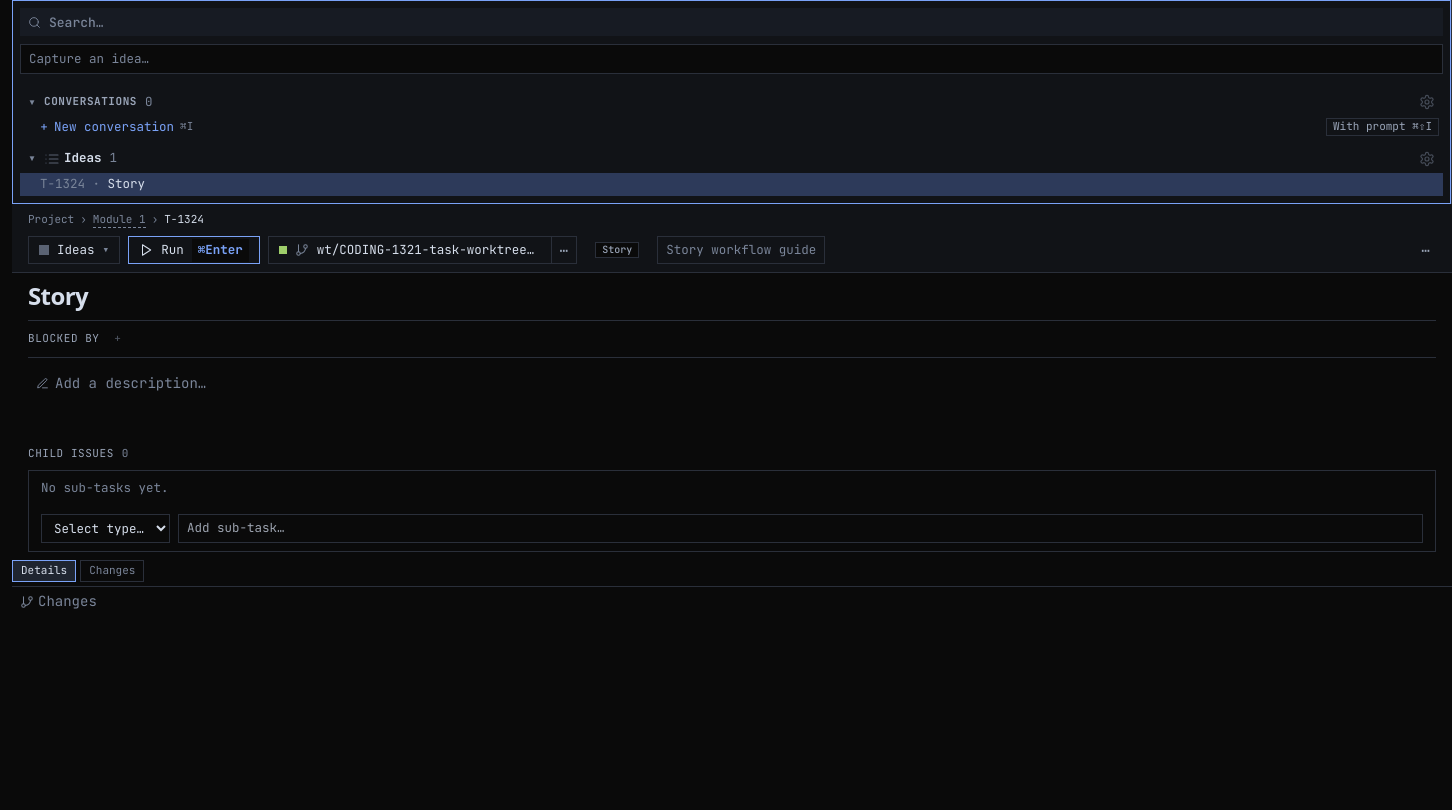
Test: overhaul acceptance - task worktree Changes › [overhaul-194] requires committed task work before offering Create PR
Click the tab "Changes".
click(112, 571)  # box [80,560,144,582]
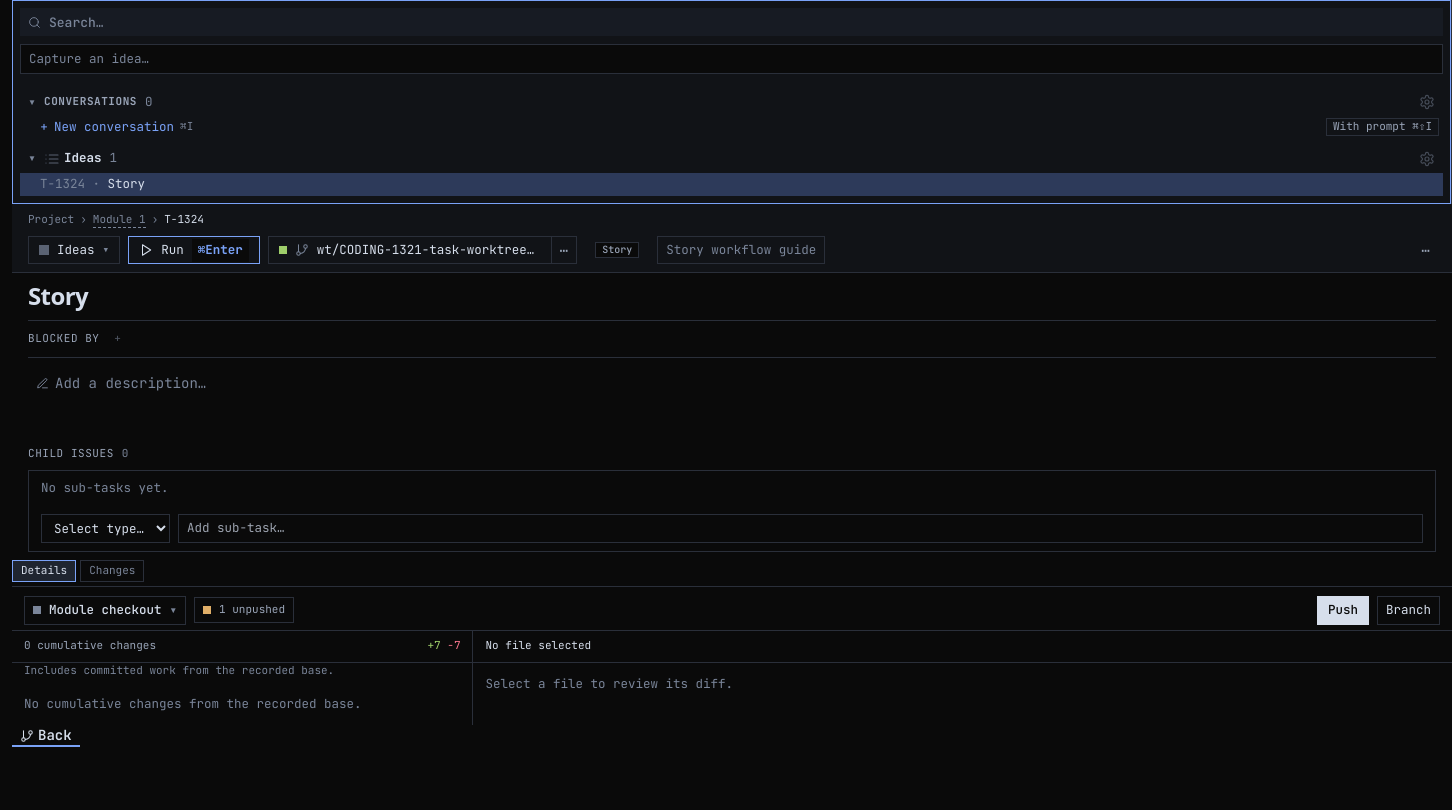
Click the button "Branch".
click(1408, 610)  # box [1377,596,1440,625]
(page scrolled)
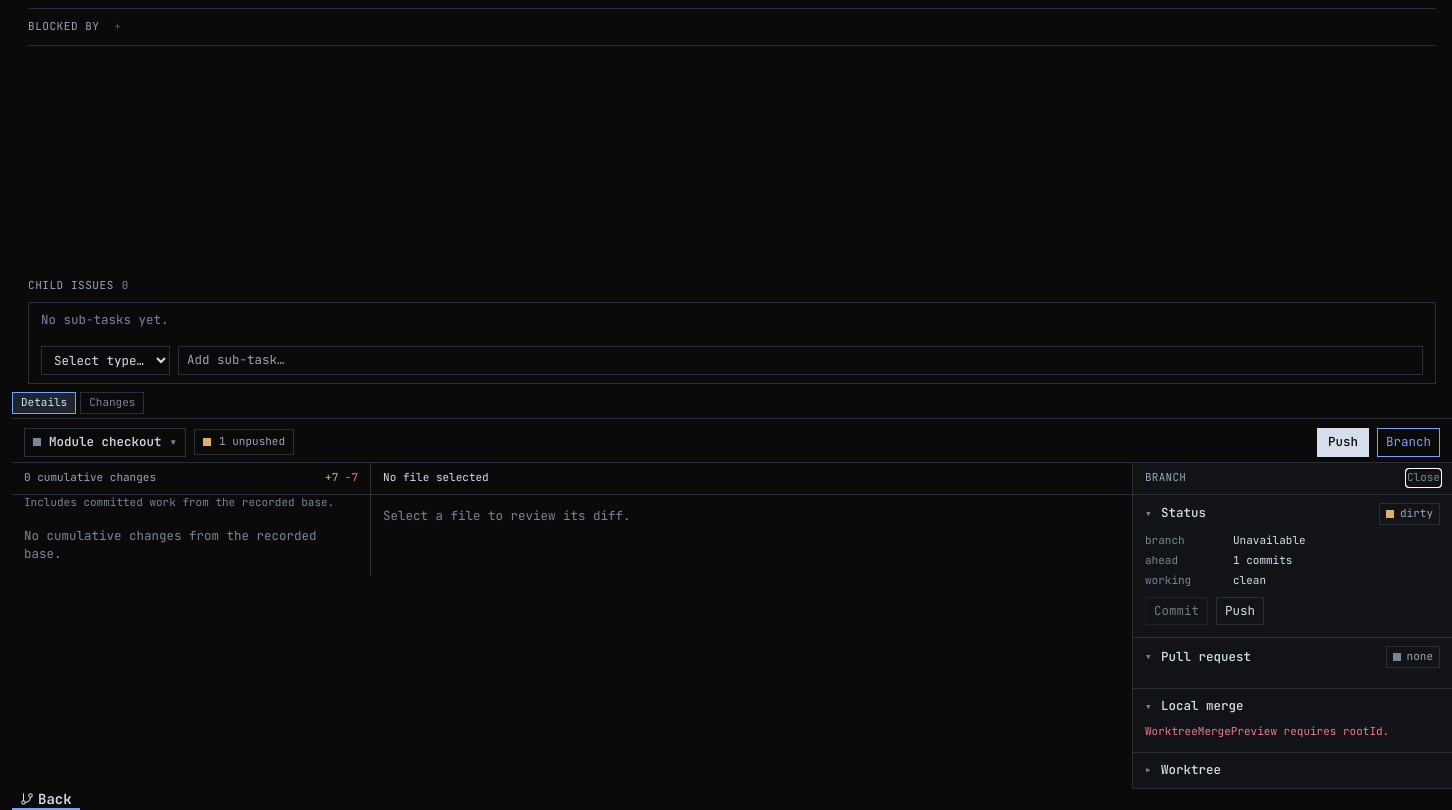
Expected: the text "No cumulative changes from the recorded base." is shown, [24,527,316,562]
Expected: the element with test id "changes-branch-inspector" is shown, [1132,463,1451,789]
